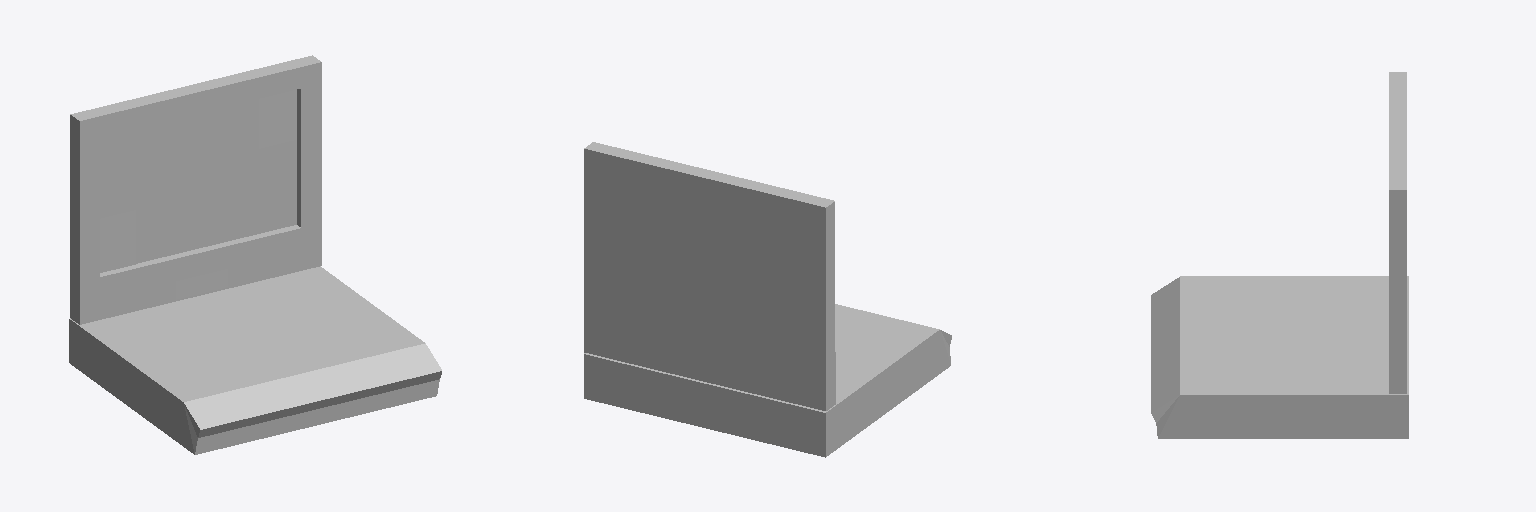
The model's file is porque.obj.
3 renders of one model, left to right at view 1: azimuth 30°, elevation 25°; view 2: azimuth 150°, elevation 25°; view 3: azimuth 270°, elevation 25°, orthographic.
Visible parts, largest first — view 1: Circle; view 2: Circle; view 3: Circle.
Part boxes in pixels (bbox=[...]): Circle: bbox=[69, 55, 441, 454]; Circle: bbox=[584, 142, 951, 457]; Circle: bbox=[1151, 72, 1408, 438].
Bounding box in the file's own units: 0.7472 × 0.7285 × 0.683.